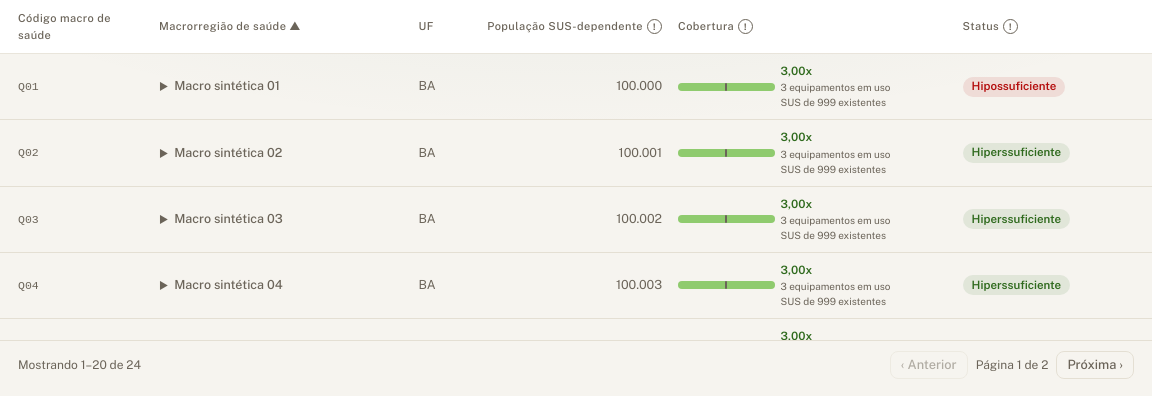
Test case: tabela de cobertura com componentes e consultas reais › pagina macros sem consultar regiões antes de expandir
Expected: the text "Mostrando 1–20 de 24" is shown, x1=18 y1=357 x2=141 y2=373
Click the button with aria-label "Próxima página": point(1095, 365) x1=1056 y1=351 x2=1134 y2=379
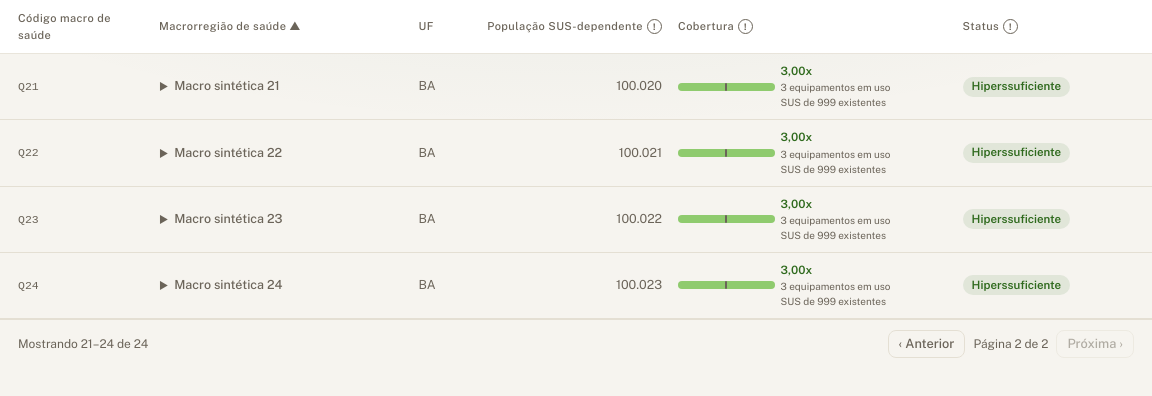
Result: the text "Mostrando 21–24 de 24" is shown at x1=18 y1=336 x2=148 y2=352
Result: the text "Macro sintética 01" is gone
